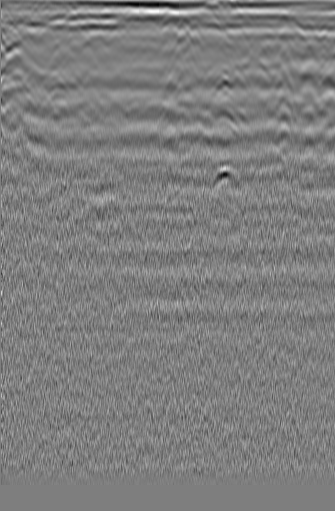가스: (205, 164, 239, 196)
상수: (6, 18, 35, 42)
오수: (288, 44, 322, 68)
우수: (155, 25, 184, 56)
